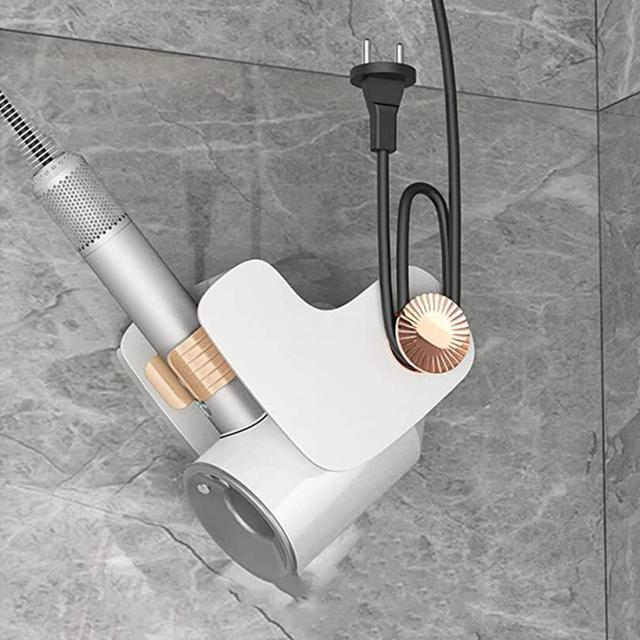dryer: (9, 51, 502, 608)
